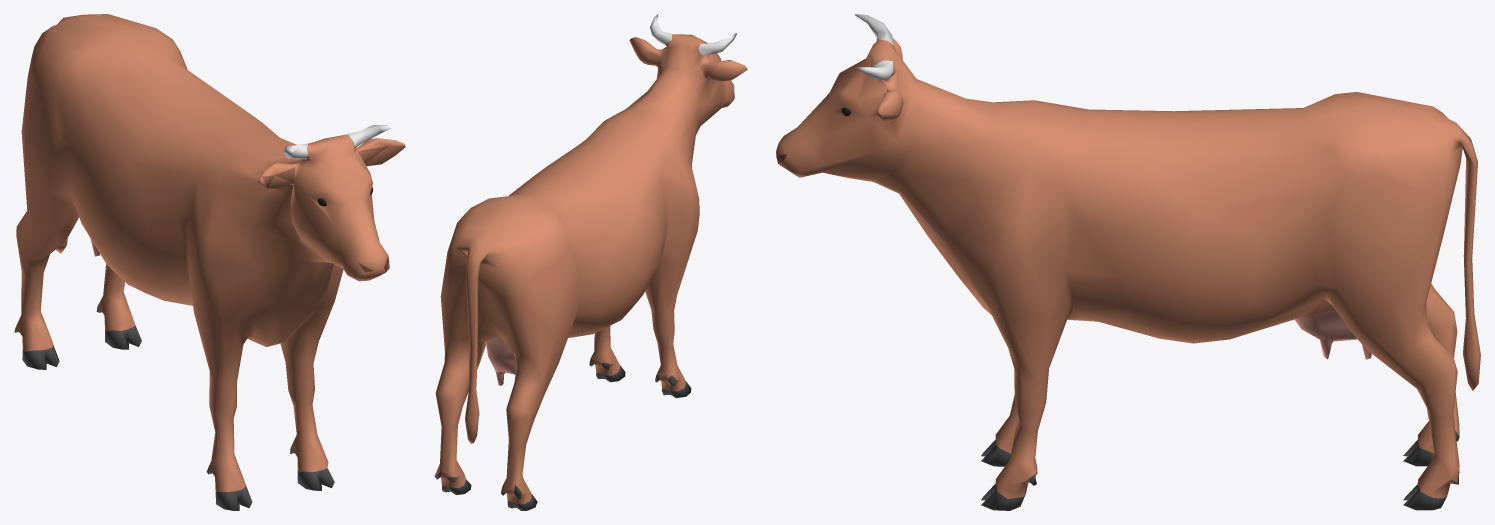
File: cow_low.glb
The picture shows the model from 3 angles, left to right: view 1: azimuth 30°, elevation 25°; view 2: azimuth 150°, elevation 25°; view 3: azimuth 270°, elevation 25°; orthographic projection. The views are drawn at different scales.
Parts seen in each view (by area): view 1: cow; view 2: cow; view 3: cow.
Boxes of the visible parts, x1=… form: cow: x1=14, y1=14, x2=405, y2=510; cow: x1=434, y1=14, x2=747, y2=510; cow: x1=776, y1=14, x2=1480, y2=510.
Size of the model in its own units: 0.6625 by 1.53 by 2.21.
